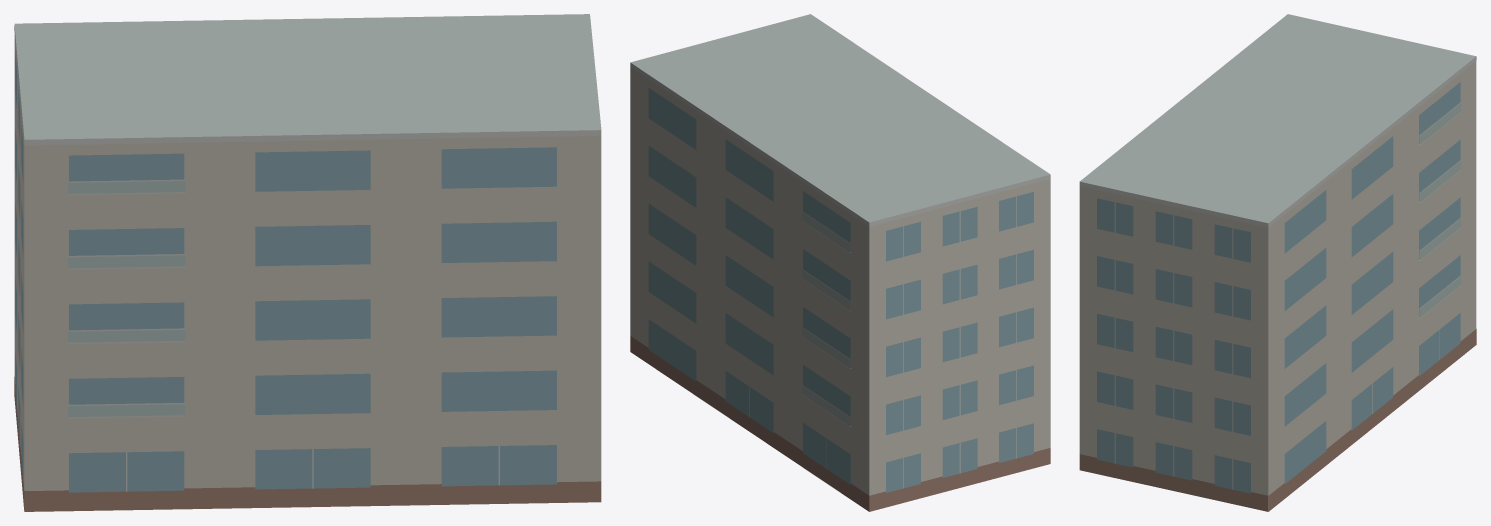
File: survey-upis-33001818.glb
The picture shows the model from 3 angles, left to right: view 1: azimuth 30°, elevation 25°; view 2: azimuth 150°, elevation 25°; view 3: azimuth 270°, elevation 25°; orthographic projection. The views are drawn at different scales.
Visible parts, largest first — view 1: survey-upis-33001818.tmp; view 2: survey-upis-33001818.tmp; view 3: survey-upis-33001818.tmp.
Part boxes in pixels (bbox=[...]): survey-upis-33001818.tmp: bbox=[14, 14, 601, 511]; survey-upis-33001818.tmp: bbox=[630, 14, 1050, 511]; survey-upis-33001818.tmp: bbox=[1079, 14, 1476, 511].
Bounding box in the file's own units: 24.9 × 16 × 19.95.
